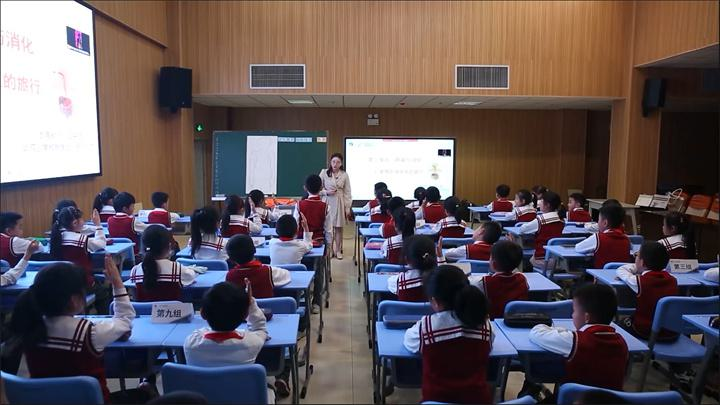hands-up: (35, 253, 139, 359), (187, 274, 268, 386), (394, 228, 448, 285), (476, 226, 521, 292), (50, 204, 110, 250), (269, 210, 316, 266), (217, 194, 259, 236), (241, 181, 280, 220)
listen: (422, 268, 496, 362), (554, 280, 614, 358), (623, 238, 675, 313), (228, 236, 292, 290), (137, 228, 183, 289), (657, 207, 699, 268), (591, 201, 626, 262), (1, 201, 39, 255), (533, 188, 561, 240), (113, 191, 139, 243), (438, 196, 464, 232), (146, 192, 175, 224), (565, 193, 590, 227), (509, 190, 533, 219), (373, 188, 390, 217)
stand: (299, 173, 334, 244)
